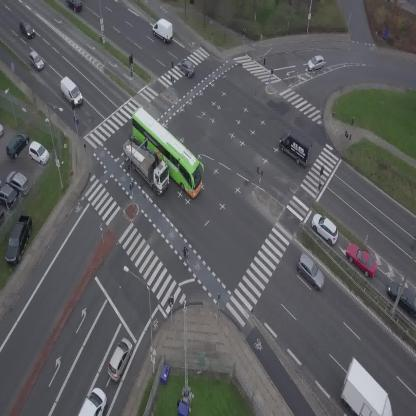bicycle: (179, 245, 192, 265)
bus: (119, 104, 215, 200)
car: (341, 238, 383, 282), (290, 252, 331, 292), (103, 336, 137, 384), (306, 209, 344, 247), (79, 385, 114, 416), (176, 56, 199, 78), (25, 49, 46, 73), (16, 19, 37, 40), (305, 54, 326, 72), (65, 0, 83, 12)
lorry: (325, 357, 402, 416), (114, 131, 179, 196), (273, 125, 319, 168), (56, 75, 87, 108), (148, 15, 179, 45)
